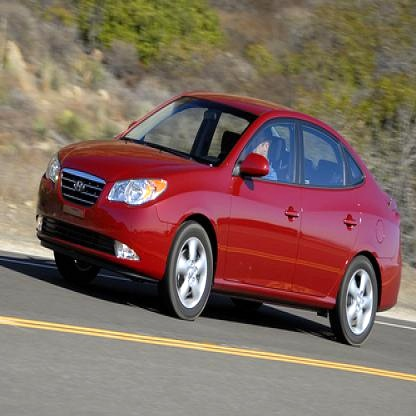Vehicle: (33, 90, 405, 350)
